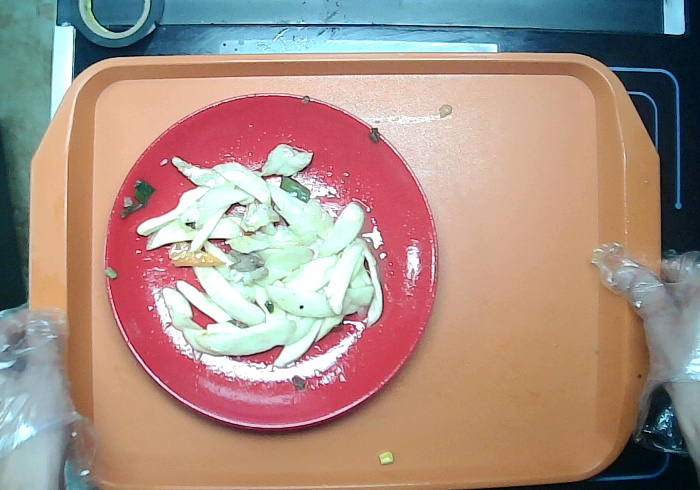HZYJPL-Hong_Se_Yuan_Pan: (104, 91, 441, 434)
